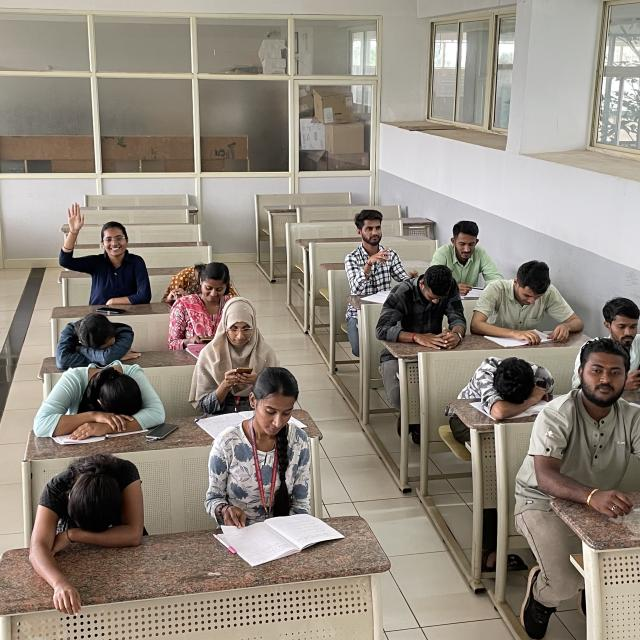Hand Rising: (55, 203, 147, 296)
Reading: (206, 372, 319, 549), (483, 252, 590, 339), (430, 216, 507, 297)
Sleeping: (31, 448, 155, 550), (31, 352, 167, 434), (462, 351, 559, 414), (52, 308, 140, 364)
Using Phone: (200, 296, 282, 403), (380, 266, 467, 347), (341, 207, 406, 290)
Writing: (538, 334, 637, 521)
